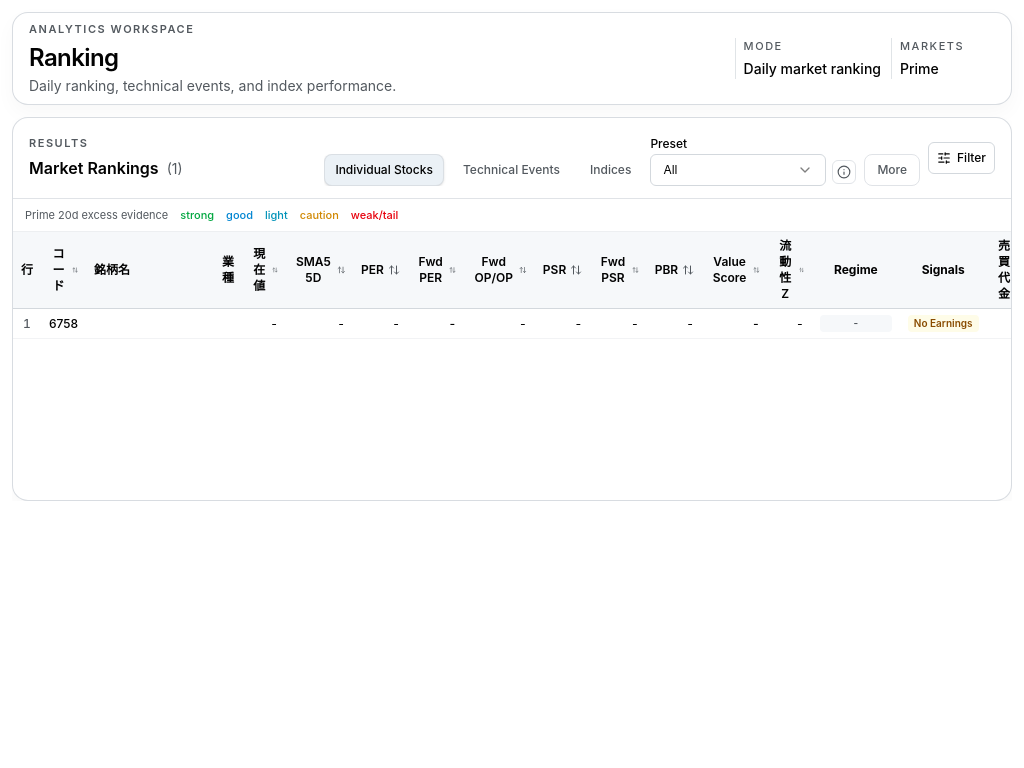
RankingPage › shows daily ranking preset conditions from the header control
Expected: the text "Core Long:" is not shown
Click the button named "Show preset conditions" at (844,172), box [832, 160, 856, 184]
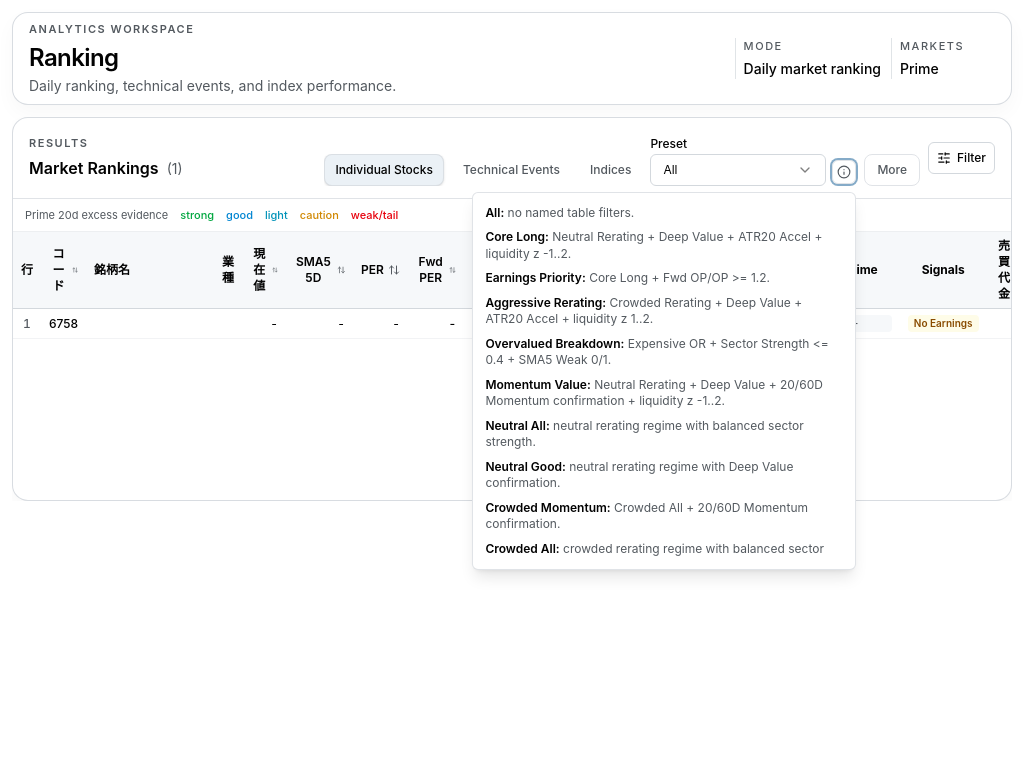
Expected: the text "Core Long:" is shown, [485, 229, 549, 244]
Expected: the text "Overvalued Breakdown:" is shown, [485, 336, 624, 350]
